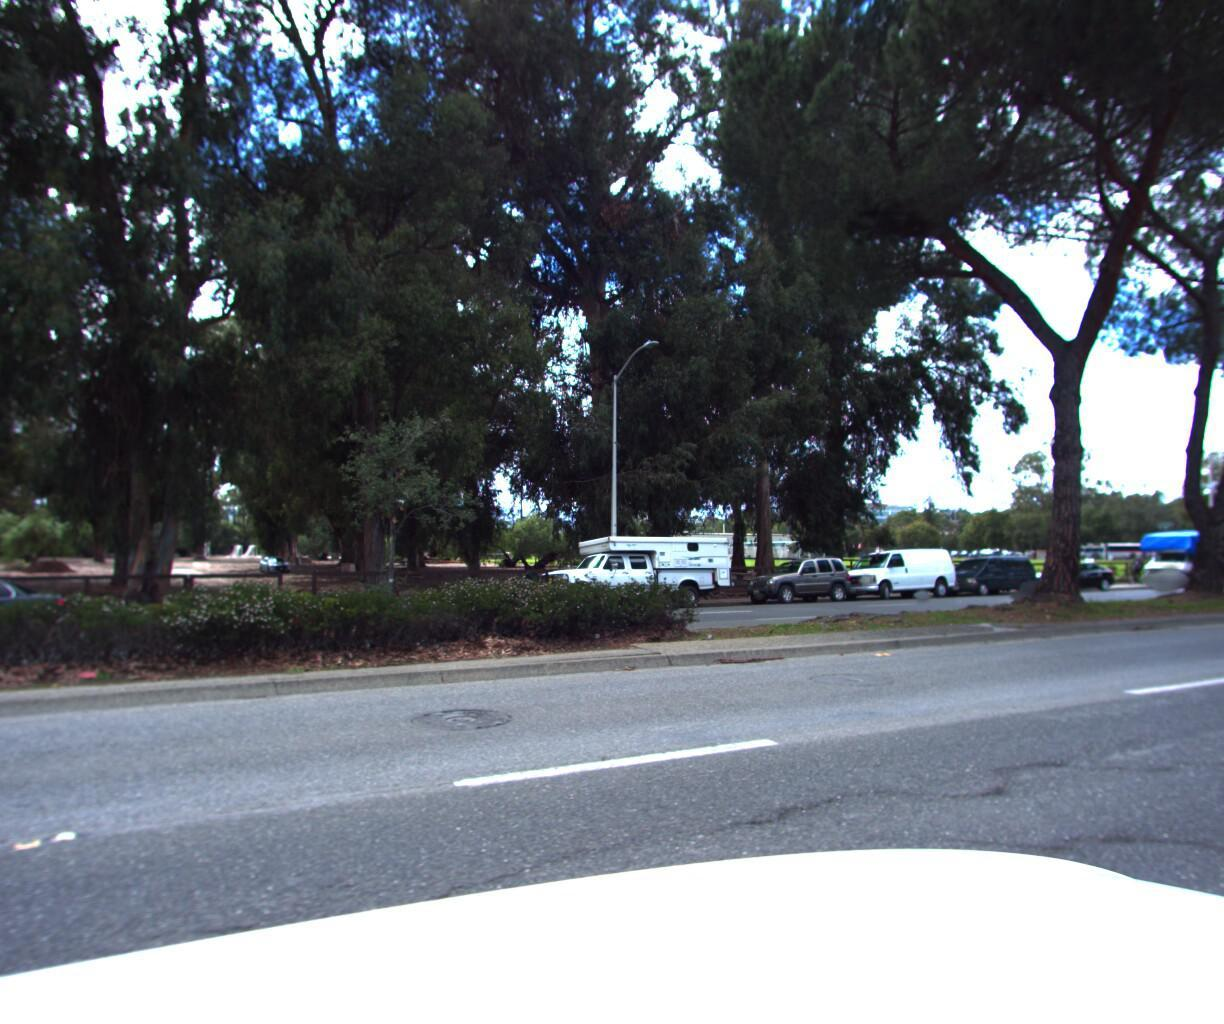car: (828, 548, 962, 602), (738, 555, 861, 607), (0, 580, 77, 655), (933, 553, 1039, 598), (1020, 563, 1117, 594)
other_vehicle: (506, 533, 743, 621), (1126, 527, 1224, 589)
